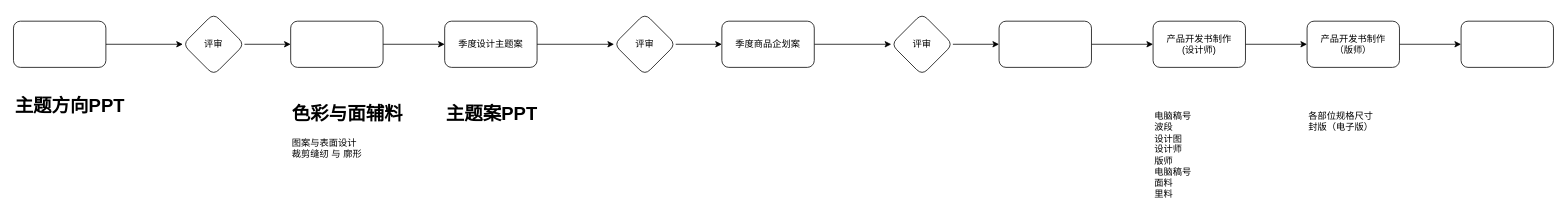
Some shapes in this 1567 by 214 pixel diagram are drawn without their labels. The centre of each missing label's shape, as x and y in pixels:
1. 主题方向: the point at 59,43
模块专项调研: the point at 336,43
设计任务分解: the point at 1044,43
